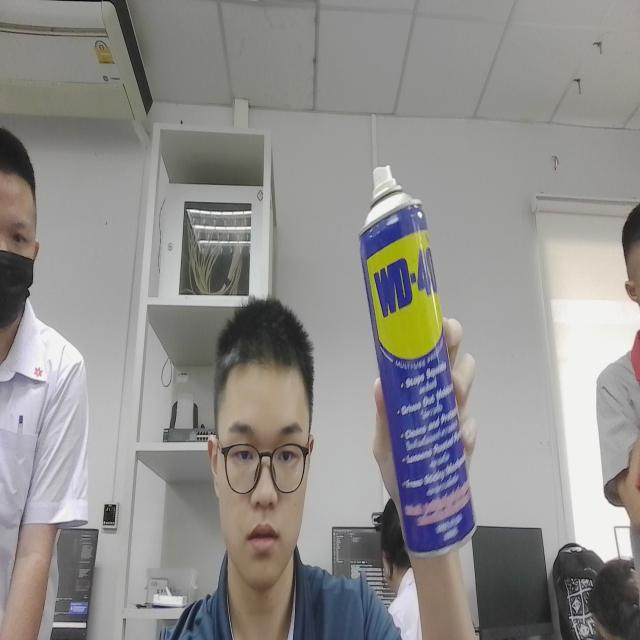wd-40: (348, 145, 485, 573)
